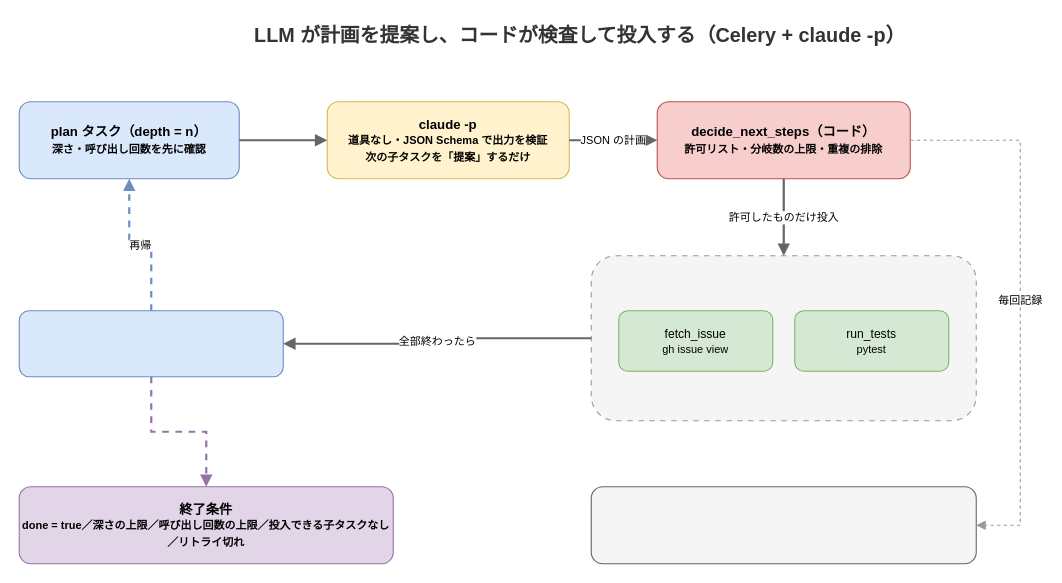
Some shapes in this 1062 by 583 pixel diagram are drawn without their labels. The shapes that lost their labels are listed below. From the top down, each one's box as (x1, y1, x2, y2) in pixels, then its label:
(18, 310, 283, 377): 結果をまとめて plan（depth = n + 1）へ 結果は「データ」として渡す
(590, 255, 976, 421): chord：子タスクを並列に実行（決定論的な処理）
(590, 486, 976, 564): 計画ログ（Redis） 毎回同じ計画になる箇所 → 固定のワークフローへ移す
